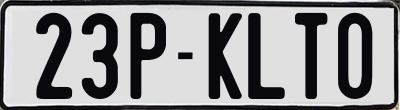0: (335, 13, 374, 99)
2: (35, 11, 76, 98)
3: (80, 11, 120, 103)
K: (206, 10, 245, 97)
L: (245, 10, 288, 99)
P: (129, 10, 166, 96)
T: (294, 10, 327, 101)
